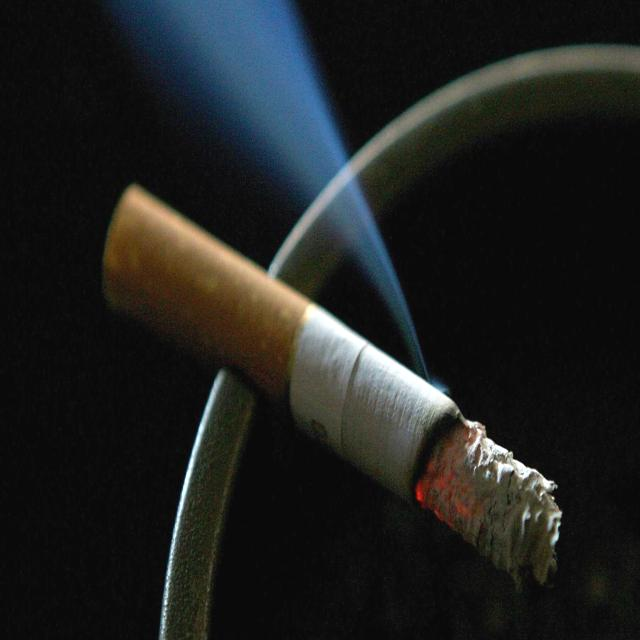Smooking: (106, 185, 586, 588)
